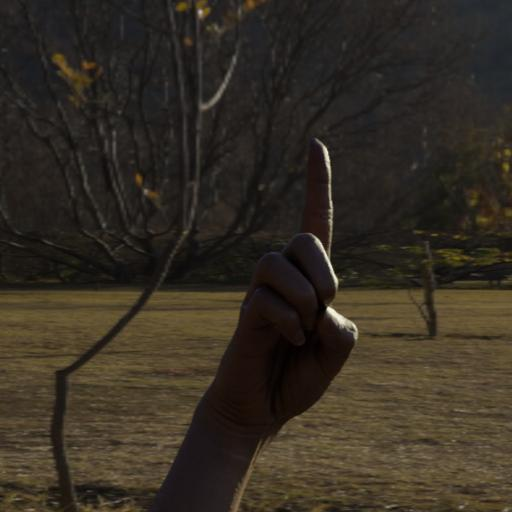D: (213, 134, 364, 437)
